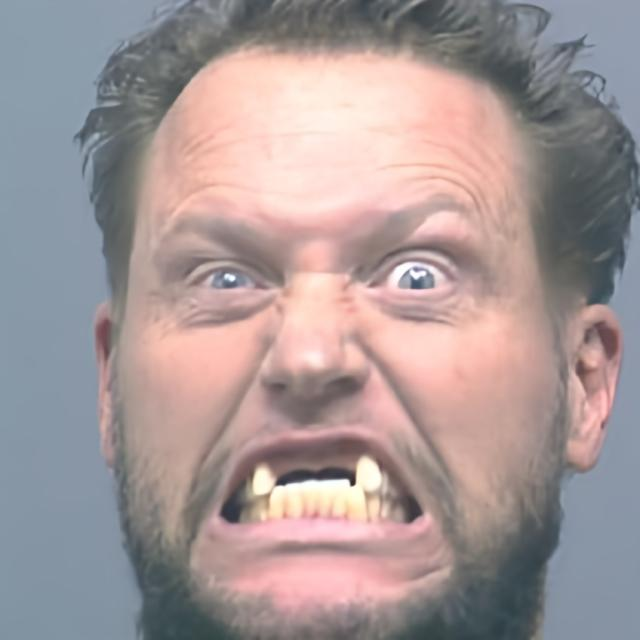anger: (120, 52, 552, 629)
